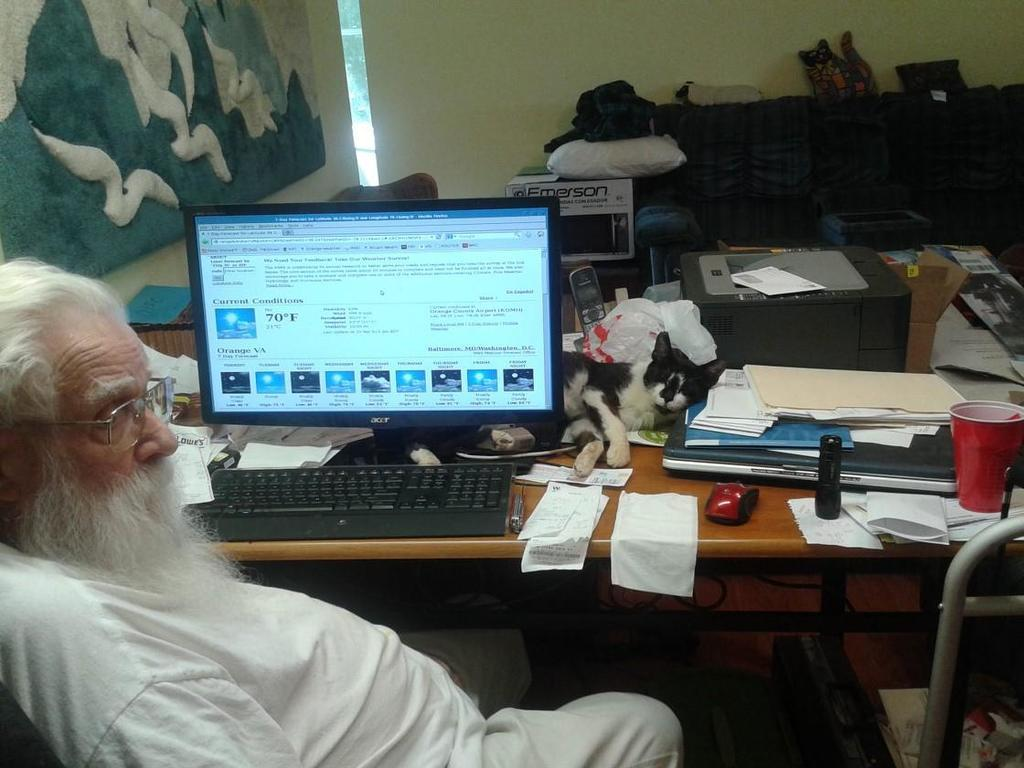Computer-monitor: (166, 195, 568, 475)
